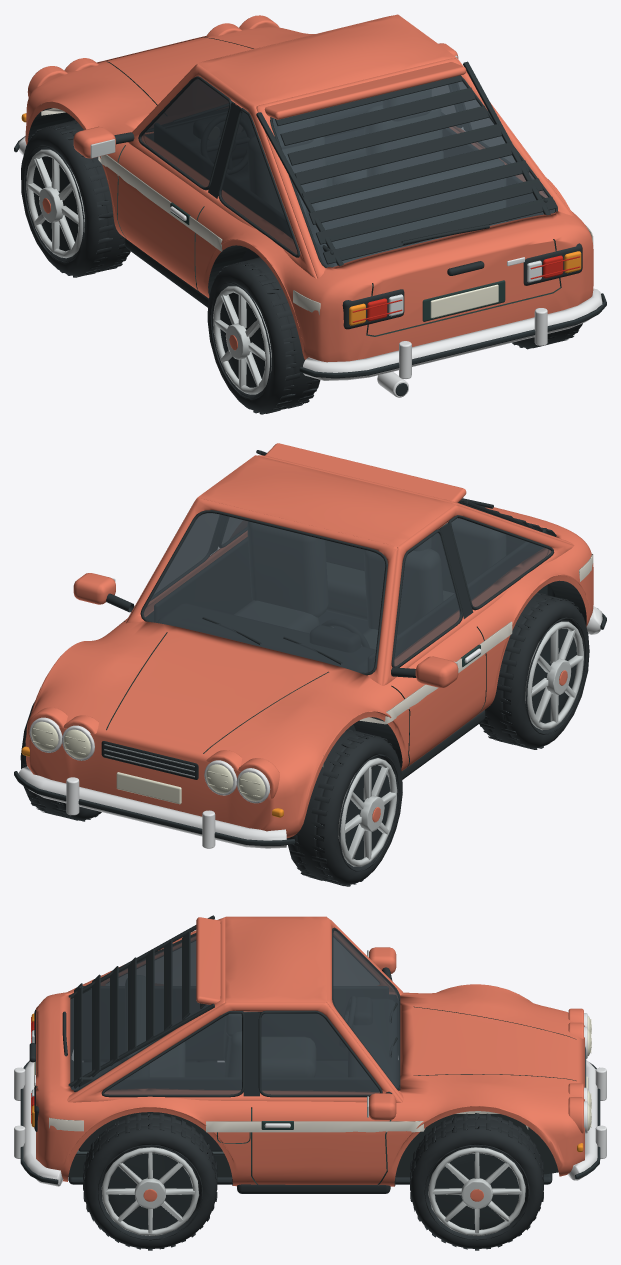
The model's file is otter_lod1.fbx.
3 views of the same model, one above another, from view 1: azimuth 30°, elevation 25°; view 2: azimuth 150°, elevation 25°; view 3: azimuth 270°, elevation 25° (orthographic). The views are drawn at different scales.
Parts seen in each view (by area): view 1: Body, Wheel_RL_Mesh, Wheel_FL_Mesh, Wheel_RR_Mesh; view 2: Body, Wheel_FL_Mesh, Wheel_RL_Mesh, Wheel_FR_Mesh; view 3: Body, Wheel_RR_Mesh, Wheel_FR_Mesh.
Part boxes in pixels (<box>): Body: <box>14,14,606,397</box>; Wheel_RL_Mesh: <box>207,257,320,414</box>; Wheel_FL_Mesh: <box>21,120,130,277</box>; Wheel_RR_Mesh: <box>512,323,582,349</box>; Body: <box>14,443,606,848</box>; Wheel_FL_Mesh: <box>286,729,402,886</box>; Wheel_RL_Mesh: <box>479,592,589,749</box>; Wheel_FR_Mesh: <box>20,701,101,821</box>; Body: <box>14,915,606,1193</box>; Wheel_RR_Mesh: <box>83,1113,217,1250</box>; Wheel_FR_Mesh: <box>410,1113,543,1250</box>.
Bounding box in the file's own units: 232 × 158 × 363.
